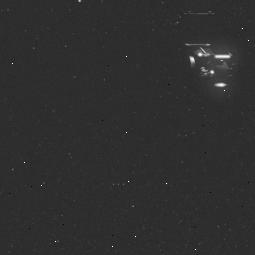earth_observation_sat_1: (174, 40, 238, 96)
